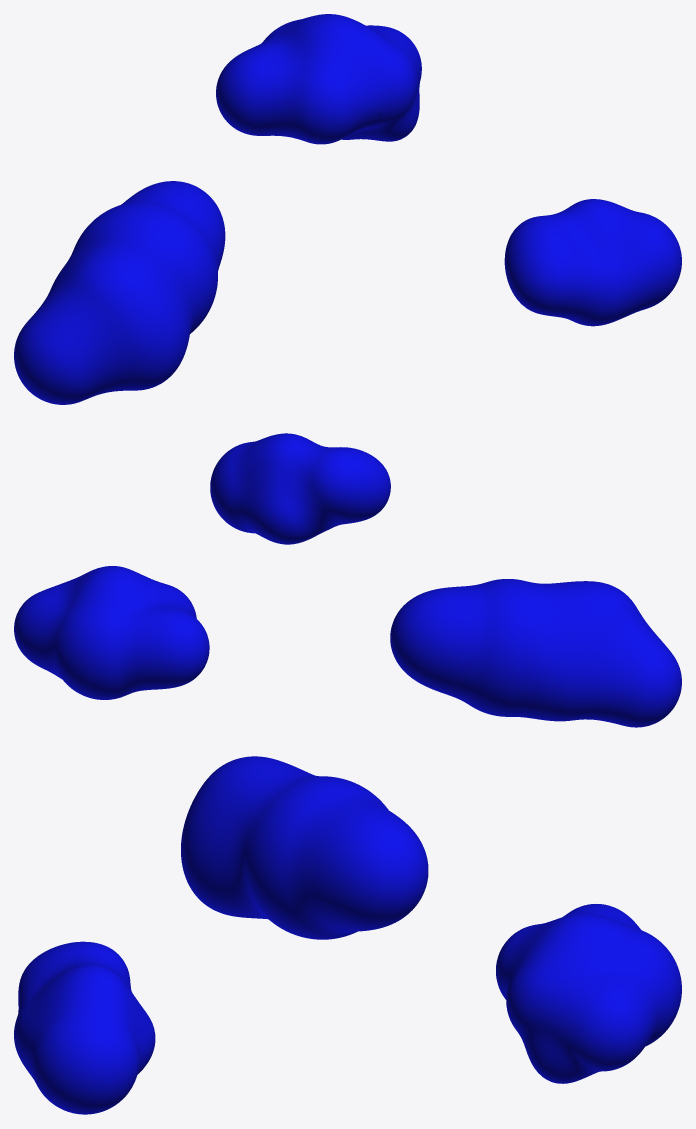
File: cloud.fbx
3 views of the same model, one above another, from view 1: azimuth 30°, elevation 25°; view 2: azimuth 150°, elevation 25°; view 3: azimuth 270°, elevation 25° (orthographic). The views are drawn at different scales.
Visible parts, largest first — view 1: МСфера.002, МСфера.001, МСфера.020; view 2: МСфера.002, МСфера.001, МСфера.020; view 3: МСфера.002, МСфера.001, МСфера.020.
Part boxes in pixels (x1,y1,x2,y2): МСфера.002: (14, 181, 225, 404); МСфера.001: (216, 14, 421, 144); МСфера.020: (504, 199, 681, 326); МСфера.002: (390, 579, 681, 727); МСфера.001: (14, 566, 209, 699); МСфера.020: (210, 433, 390, 544); МСфера.002: (181, 756, 428, 939); МСфера.001: (496, 904, 681, 1083); МСфера.020: (14, 941, 155, 1114).
Size of the model in its own units: 1737 by 494 by 1593.
